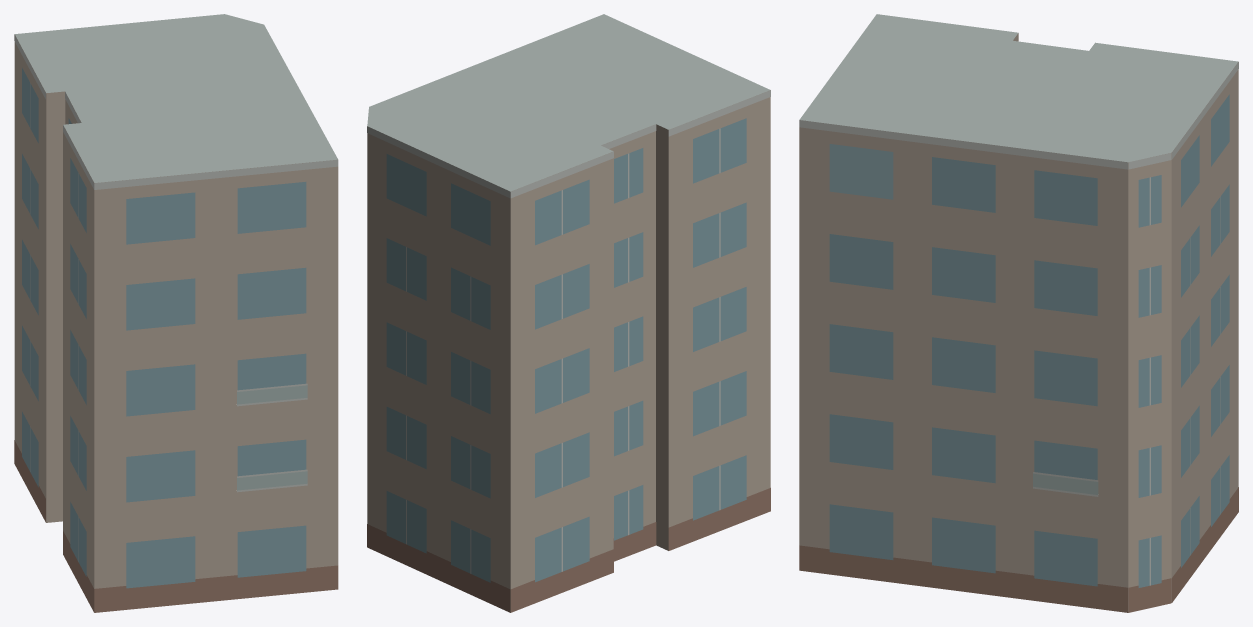
Rendered from survey-upis-33031408.glb.
3 views of the same model, side by side, from view 1: azimuth 30°, elevation 25°; view 2: azimuth 150°, elevation 25°; view 3: azimuth 270°, elevation 25° (orthographic). The views are drawn at different scales.
Visible parts, largest first — view 1: survey-upis-33031408.tmp; view 2: survey-upis-33031408.tmp; view 3: survey-upis-33031408.tmp.
Boxes of the visible parts, left/top/right/bottom form: survey-upis-33031408.tmp: left=14, top=14, right=338, bottom=612; survey-upis-33031408.tmp: left=367, top=14, right=770, bottom=612; survey-upis-33031408.tmp: left=799, top=14, right=1238, bottom=612.
Size of the model in its own units: 10.6 by 15 by 13.27.
